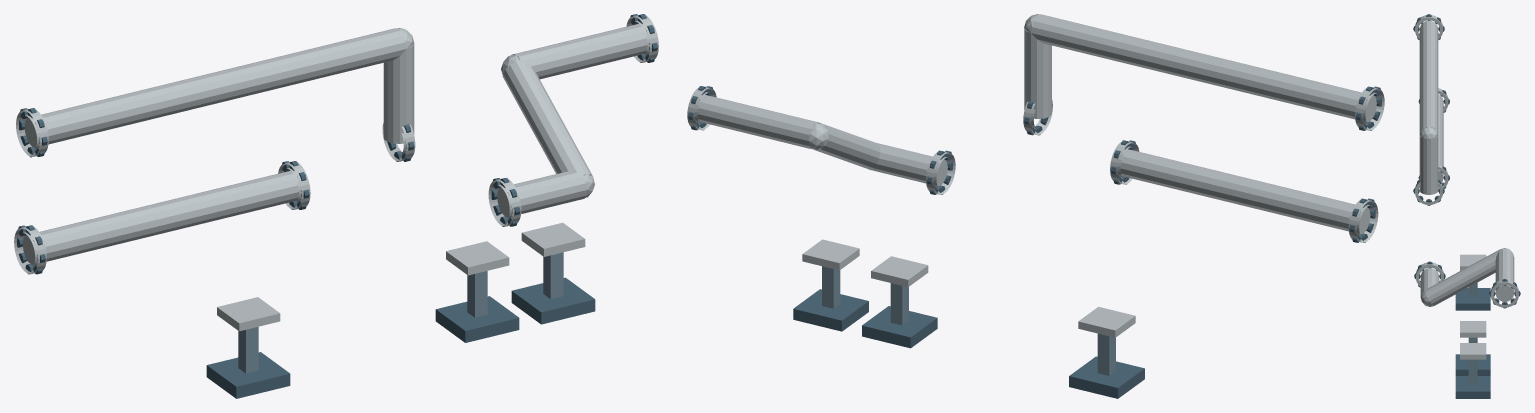
File: 29_L72_IndustrialVacuumForeline.glb
3 renders of one model, left to right at view 1: azimuth 30°, elevation 25°; view 2: azimuth 150°, elevation 25°; view 3: azimuth 270°, elevation 25°, orthographic. The views are drawn at different scales.
Visible parts, largest first — view 1: IndustrialVacuumForeline_Part_045, IndustrialVacuumForeline_Part_001, IndustrialVacuumForeline_Part_022, IndustrialVacuumForeline_Part_000, IndustrialVacuumForeline_Part_023, IndustrialVacuumForeline_Part_044, IndustrialVacuumForeline_Part_021, IndustrialVacuumForeline_Part_066, IndustrialVacuumForeline_Part_069, IndustrialVacuumForeline_Part_072, IndustrialVacuumForeline_Part_073, IndustrialVacuumForeline_Part_070 (+7 smaller); view 2: IndustrialVacuumForeline_Part_045, IndustrialVacuumForeline_Part_001, IndustrialVacuumForeline_Part_023, IndustrialVacuumForeline_Part_000, IndustrialVacuumForeline_Part_044, IndustrialVacuumForeline_Part_072, IndustrialVacuumForeline_Part_066, IndustrialVacuumForeline_Part_069, IndustrialVacuumForeline_Part_021, IndustrialVacuumForeline_Part_022, IndustrialVacuumForeline_Part_067, IndustrialVacuumForeline_Part_070 (+7 smaller); view 3: IndustrialVacuumForeline_Part_045, IndustrialVacuumForeline_Part_022, IndustrialVacuumForeline_Part_044, IndustrialVacuumForeline_Part_023, IndustrialVacuumForeline_Part_072, IndustrialVacuumForeline_Part_066, IndustrialVacuumForeline_Part_069, IndustrialVacuumForeline_Part_070, IndustrialVacuumForeline_Part_073, IndustrialVacuumForeline_Part_021, IndustrialVacuumForeline_Part_035, IndustrialVacuumForeline_Part_001 (+9 smaller).
Boxes of the visible parts, box(x1,y1,x2,y2) form: IndustrialVacuumForeline_Part_045: box(24, 28, 406, 147); IndustrialVacuumForeline_Part_001: box(145, 171, 298, 235); IndustrialVacuumForeline_Part_022: box(502, 59, 592, 175); IndustrialVacuumForeline_Part_000: box(22, 206, 156, 264); IndustrialVacuumForeline_Part_023: box(511, 24, 647, 79); IndustrialVacuumForeline_Part_044: box(383, 44, 414, 143); IndustrialVacuumForeline_Part_021: box(497, 171, 587, 217); IndustrialVacuumForeline_Part_066: box(206, 352, 290, 398); IndustrialVacuumForeline_Part_069: box(435, 296, 519, 342); IndustrialVacuumForeline_Part_072: box(511, 277, 595, 324); IndustrialVacuumForeline_Part_073: box(521, 222, 585, 256); IndustrialVacuumForeline_Part_070: box(446, 241, 509, 275); IndustrialVacuumForeline_Part_045: box(1031, 14, 1376, 122); IndustrialVacuumForeline_Part_001: box(1120, 149, 1259, 207); IndustrialVacuumForeline_Part_023: box(697, 95, 819, 149); IndustrialVacuumForeline_Part_000: box(1249, 181, 1370, 234); IndustrialVacuumForeline_Part_044: box(1024, 29, 1051, 118); IndustrialVacuumForeline_Part_072: box(793, 289, 868, 331); IndustrialVacuumForeline_Part_066: box(1069, 356, 1144, 398); IndustrialVacuumForeline_Part_069: box(862, 306, 937, 348); IndustrialVacuumForeline_Part_021: box(871, 143, 947, 186); IndustrialVacuumForeline_Part_022: box(813, 123, 880, 169); IndustrialVacuumForeline_Part_067: box(1078, 306, 1135, 337); IndustrialVacuumForeline_Part_070: box(871, 256, 928, 287); IndustrialVacuumForeline_Part_045: box(1419, 20, 1438, 134); IndustrialVacuumForeline_Part_022: box(1425, 249, 1500, 305); IndustrialVacuumForeline_Part_044: box(1419, 135, 1438, 194); IndustrialVacuumForeline_Part_023: box(1495, 249, 1514, 301); IndustrialVacuumForeline_Part_072: box(1455, 376, 1490, 398); IndustrialVacuumForeline_Part_066: box(1455, 288, 1490, 310); IndustrialVacuumForeline_Part_069: box(1455, 354, 1490, 375); IndustrialVacuumForeline_Part_070: box(1460, 321, 1486, 337); IndustrialVacuumForeline_Part_073: box(1460, 343, 1486, 359); IndustrialVacuumForeline_Part_021: box(1420, 268, 1439, 300); IndustrialVacuumForeline_Part_035: box(1490, 279, 1518, 307); IndustrialVacuumForeline_Part_001: box(1438, 128, 1443, 182).
Bounding box in the file's own units: 5.31 × 2.69 × 1.22.
